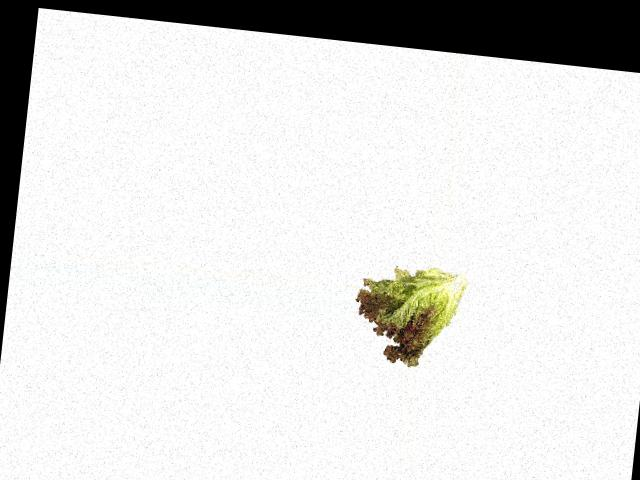lettuce: (349, 261, 467, 370)
